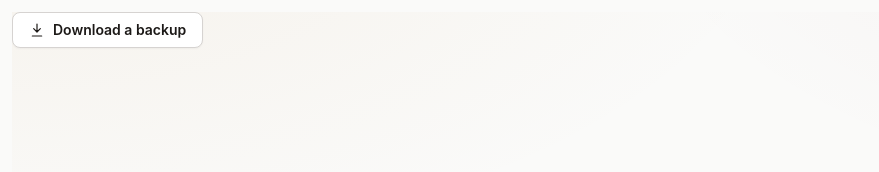
Test: BackupButton › mentions drafts that couldn't be opened, and uses the message it is given
Click the button "Download a backup".
click(108, 30)  # box [12,12,203,48]
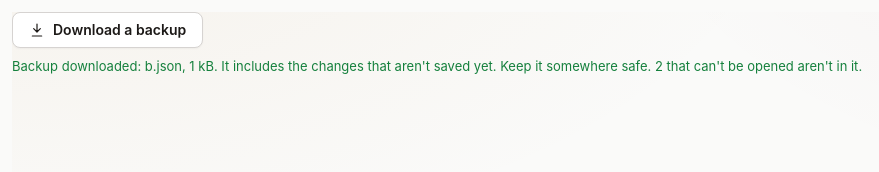
Expected: the text "includes the changes that aren't saved yet" shows "2 that can't be opened aren't in it.", [12,58,862,74]
